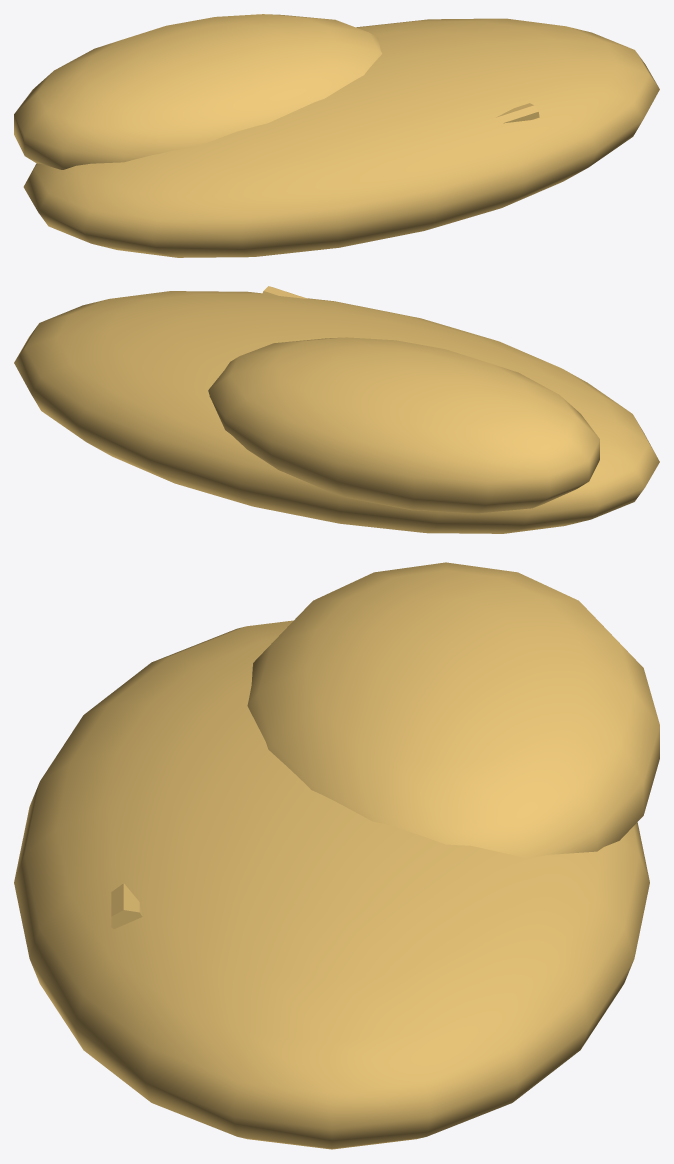
The model's file is desert_dune.glb.
The picture shows the model from 3 angles, top to bottom: view 1: azimuth 30°, elevation 25°; view 2: azimuth 150°, elevation 25°; view 3: azimuth 270°, elevation 25°; orthographic projection. The views are drawn at different scales.
Visible parts, largest first — view 1: desert_dune_root; view 2: desert_dune_root; view 3: desert_dune_root.
Boxes of the visible parts, bbox=[...] form: desert_dune_root: bbox=[14, 14, 659, 257]; desert_dune_root: bbox=[14, 286, 659, 533]; desert_dune_root: bbox=[14, 562, 659, 1149].
Bounding box in the file's own units: 8 × 2 × 4.43.
